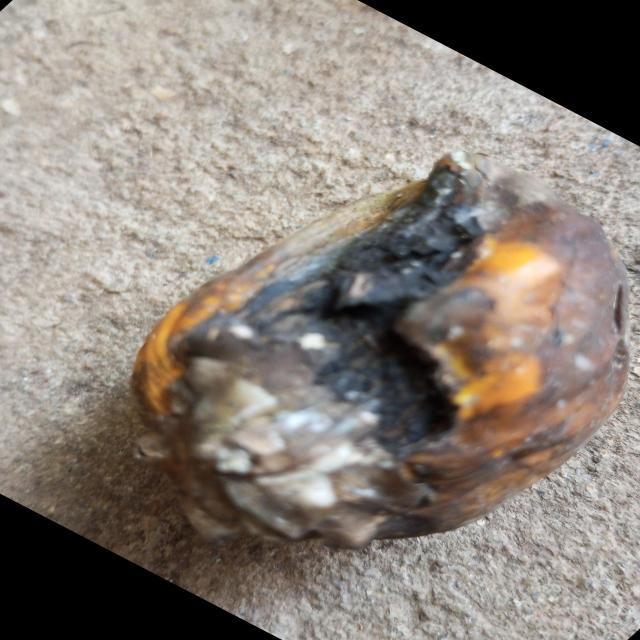damaged: (128, 155, 628, 555)
